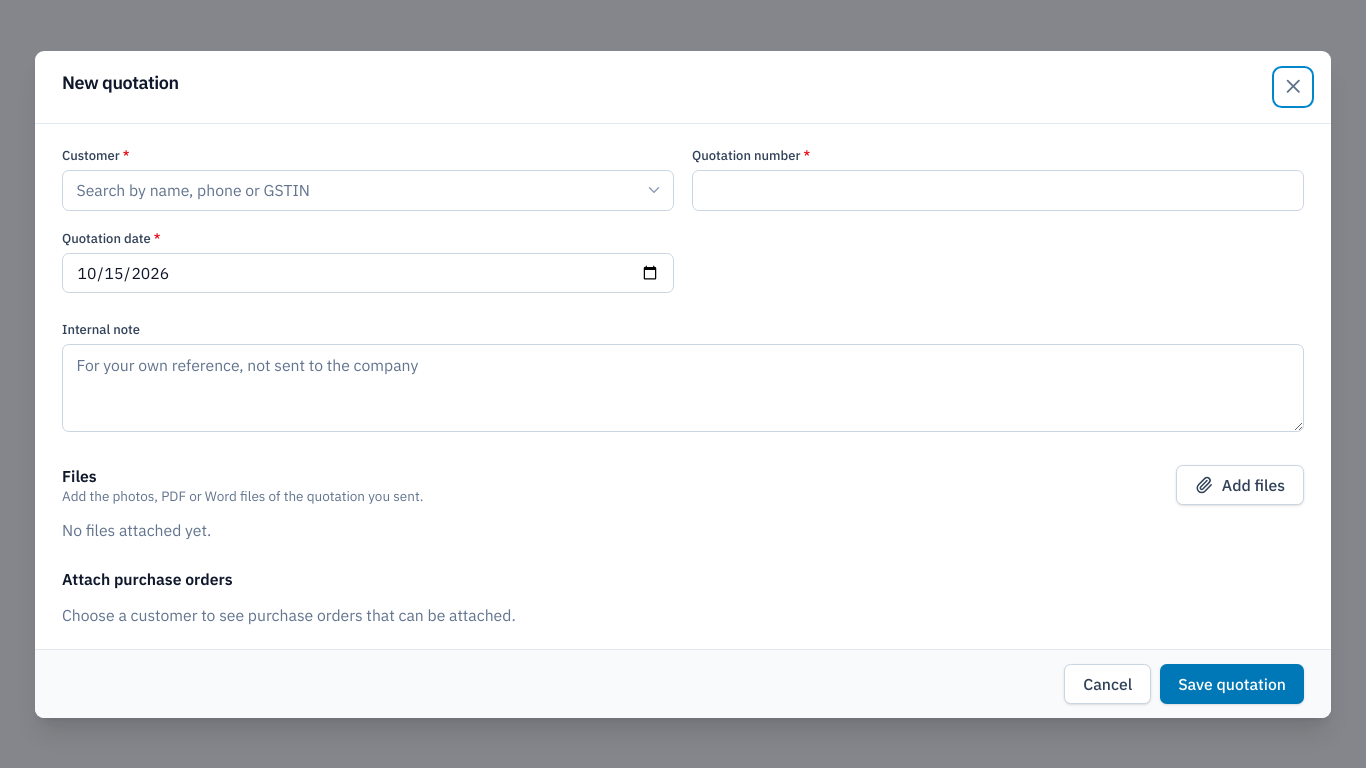
Test: a new quotation › refuses to save without a customer, number or date
Click the button "Save quotation". click: (1232, 684)
box: [1160,664,1304,704]
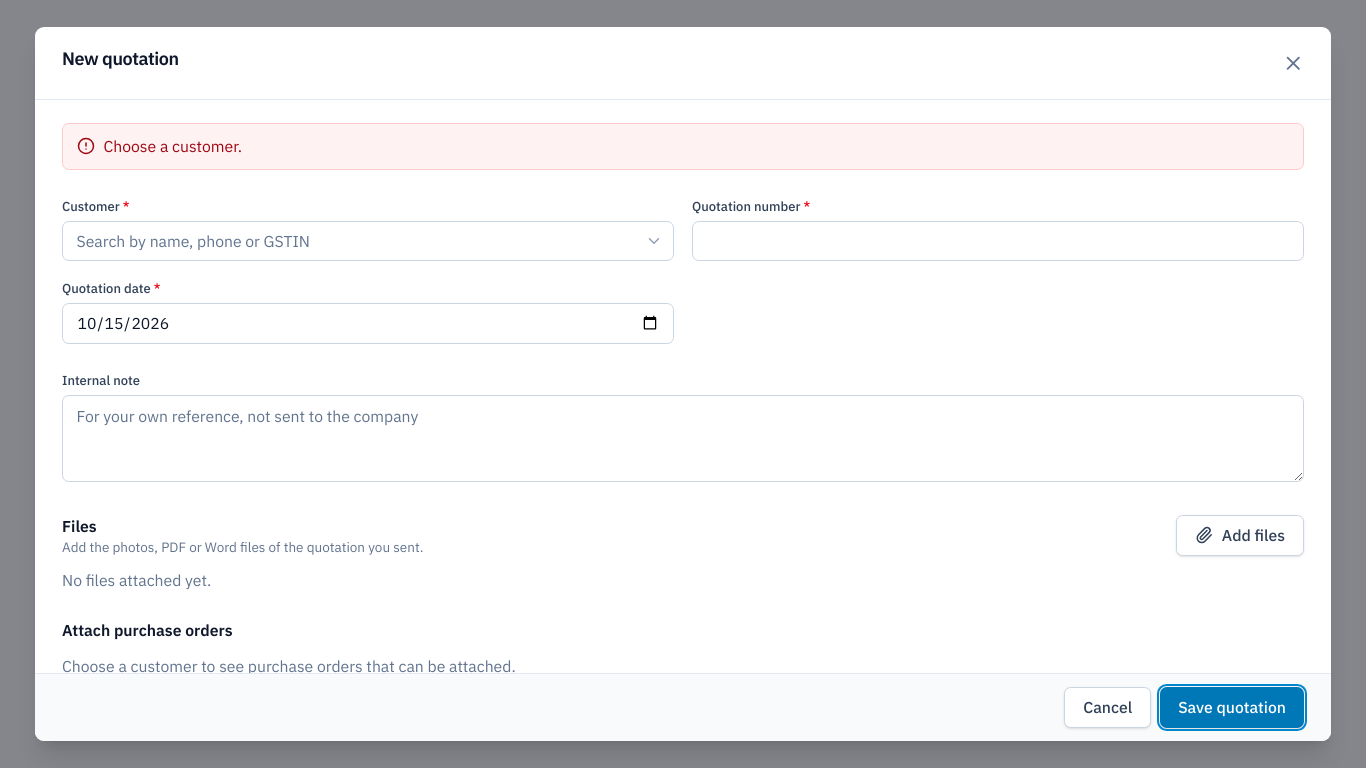
Now the message reads "Choose a customer.", box [104,136,242,156]
Click the dropdown named "Customer". click: (368, 241)
box: [62,220,674,261]
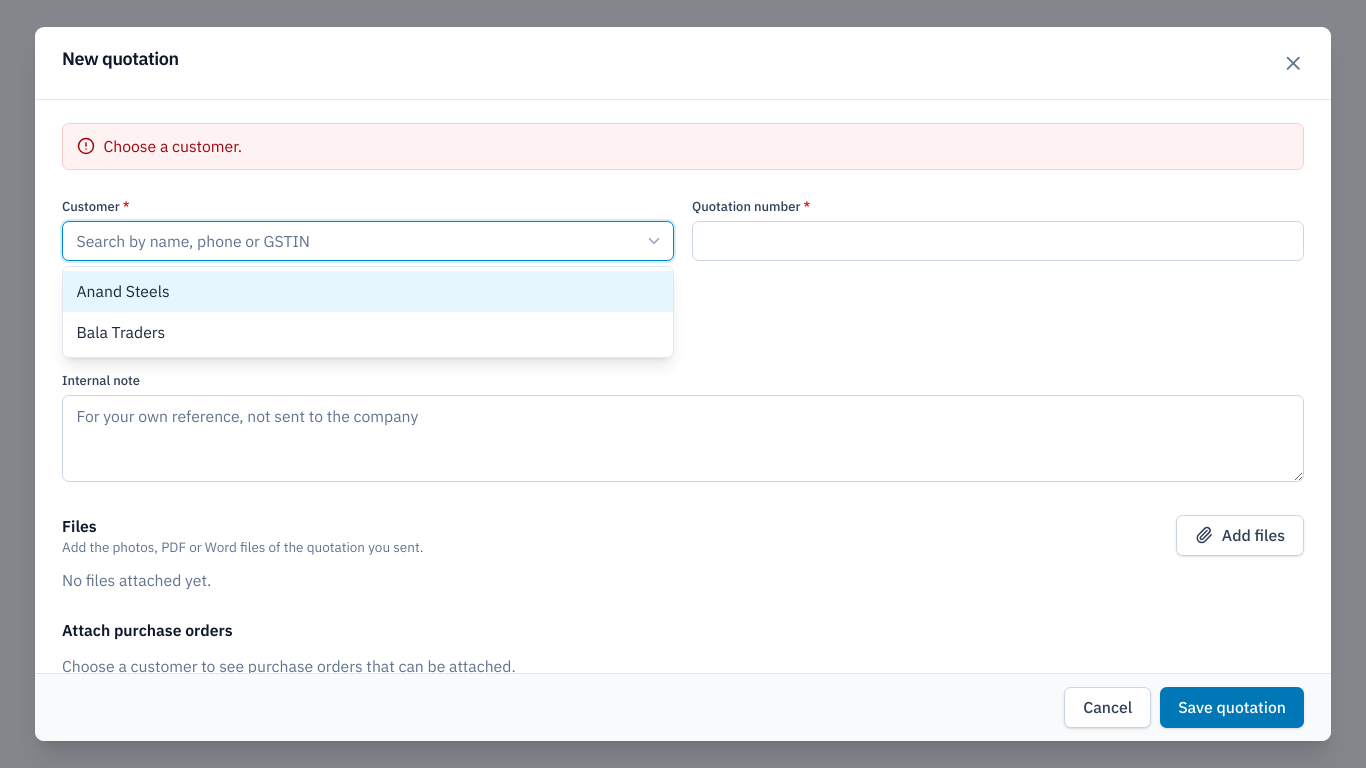
Click the option "Bala Traders". click: (121, 332)
box: [76,322,165,342]
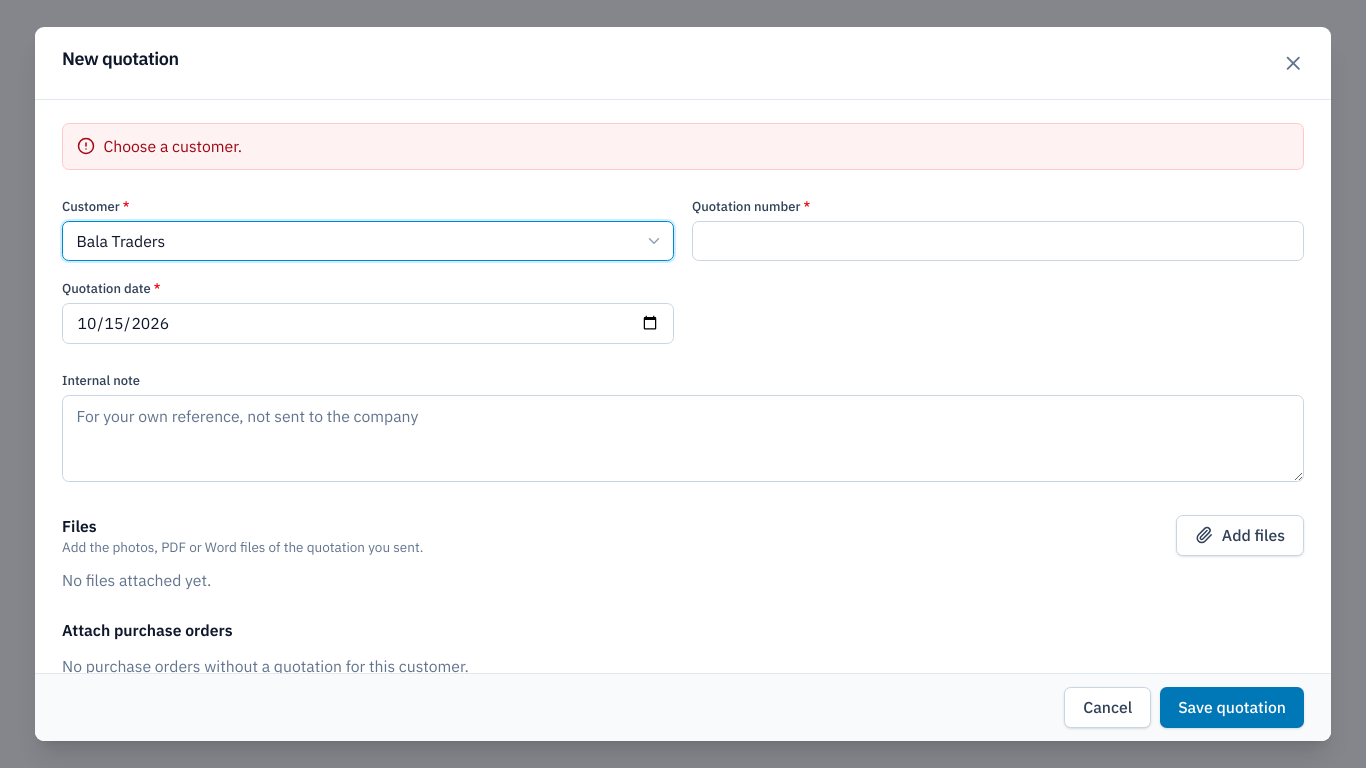
Click the button "Save quotation". click: (1232, 707)
box: [1160,687,1304,728]
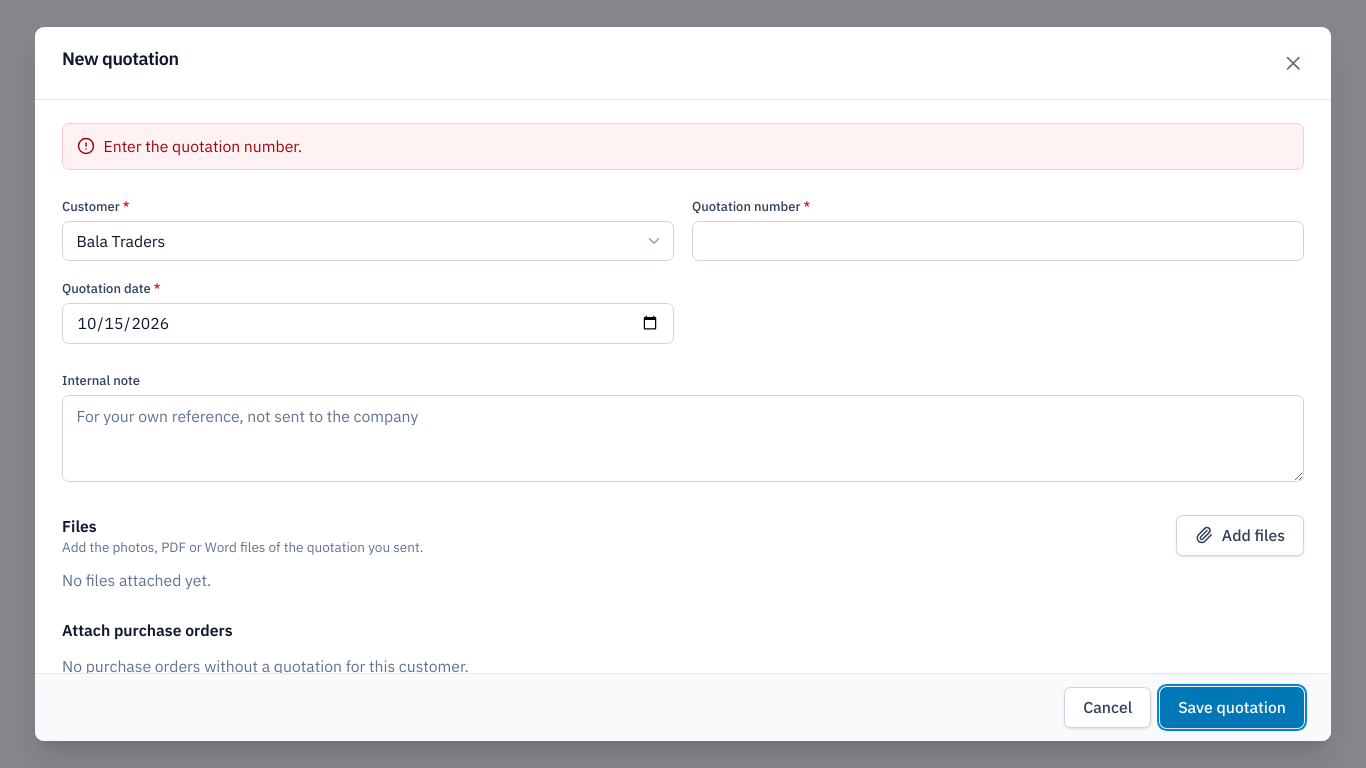
Now the message reads "Enter the quotation number.", box [104,136,302,156]
Type "QT/1" into the field labelled "Quotation number". click: (998, 241)
box: [692,220,1304,261]
Clear the date field labelled "Quotation date". click: (368, 323)
box: [62,303,674,344]
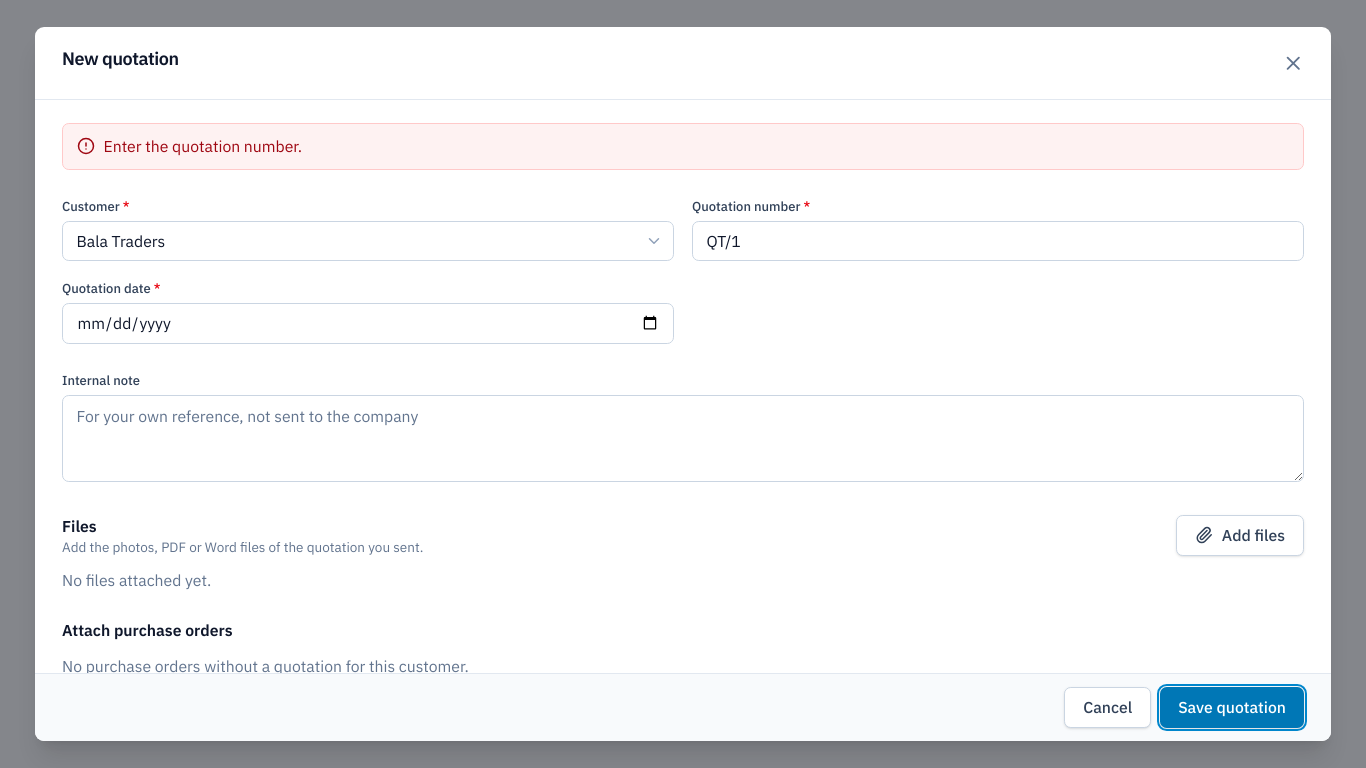
Click the button "Save quotation". click: (1232, 707)
box: [1160,687,1304,728]
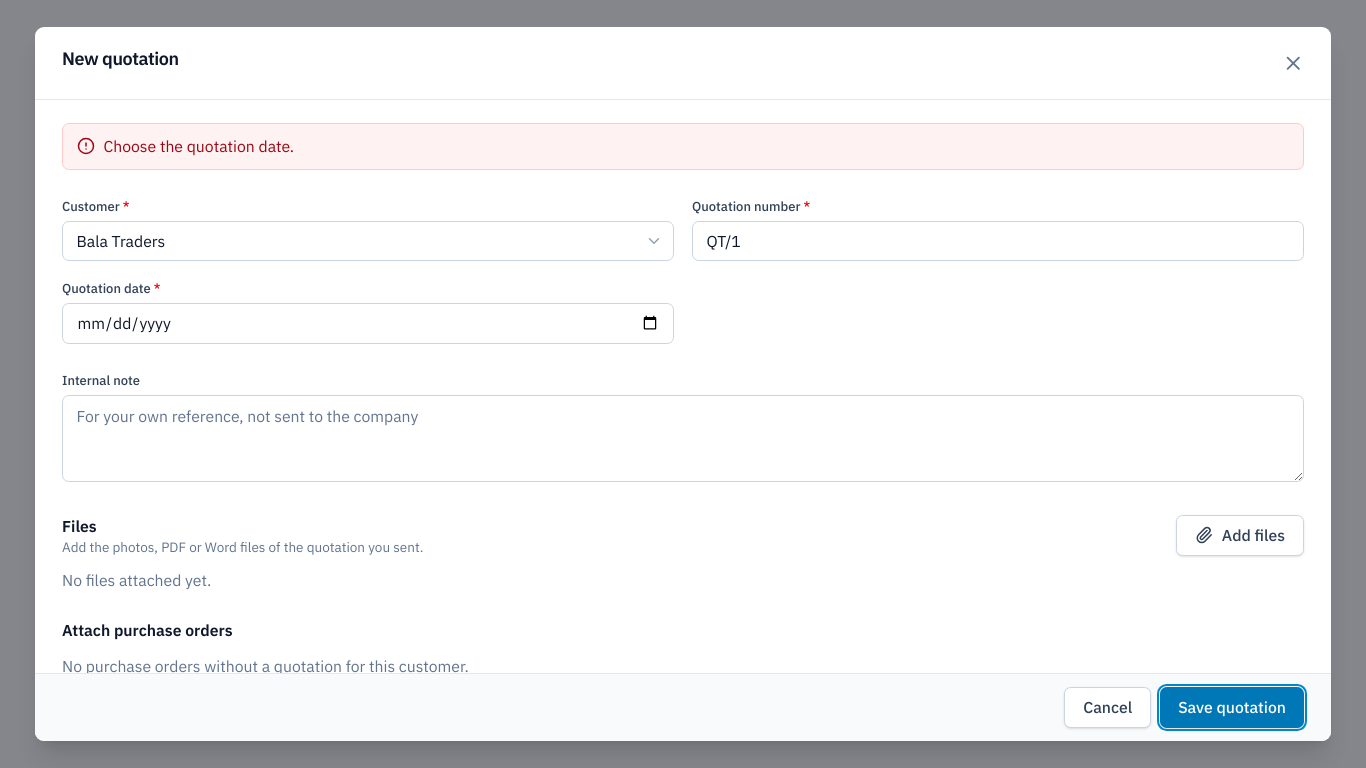
Now the message reads "Choose the quotation date.", box [104,136,294,156]
